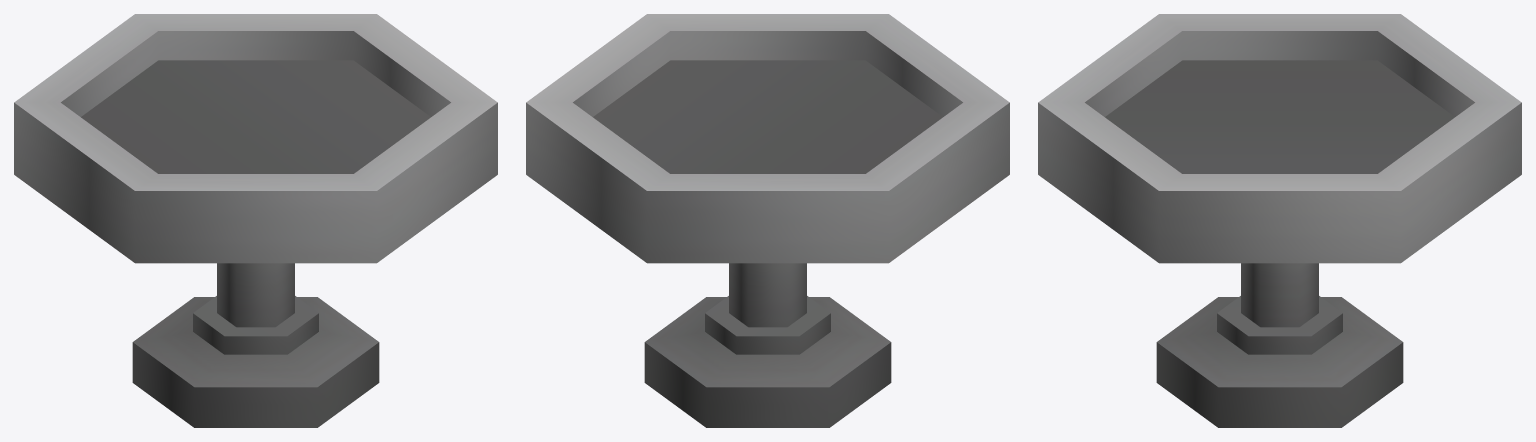
Rendered from FoodProp_1_B.fbx.
3 views of the same model, side by side, from view 1: azimuth 30°, elevation 25°; view 2: azimuth 150°, elevation 25°; view 3: azimuth 270°, elevation 25° (orthographic).
Visible parts, largest first — view 1: FoodProp_1_B; view 2: FoodProp_1_B; view 3: FoodProp_1_B.
Part boxes in pixels (x1=…): FoodProp_1_B: x1=14, y1=14, x2=497, y2=427; FoodProp_1_B: x1=526, y1=14, x2=1009, y2=427; FoodProp_1_B: x1=1038, y1=14, x2=1521, y2=427.
Size of the model in its own units: 49.95 by 36.88 by 57.67.
